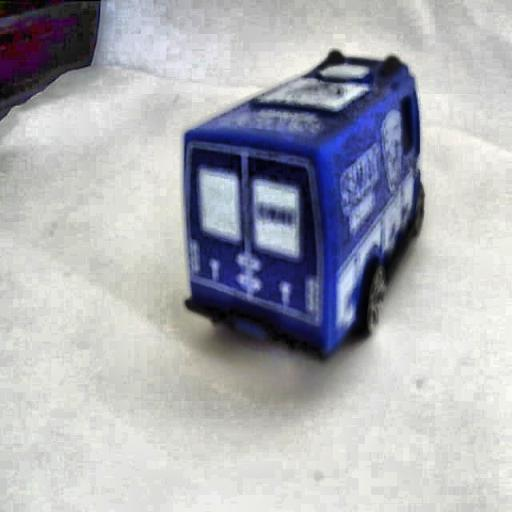police car: (180, 40, 426, 363)
